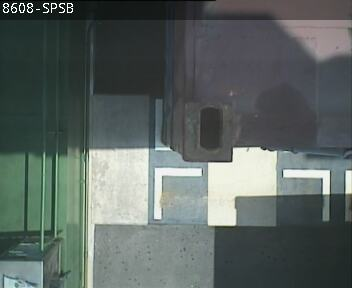groundmarker_1: (153, 98, 200, 222), (283, 169, 351, 221)
